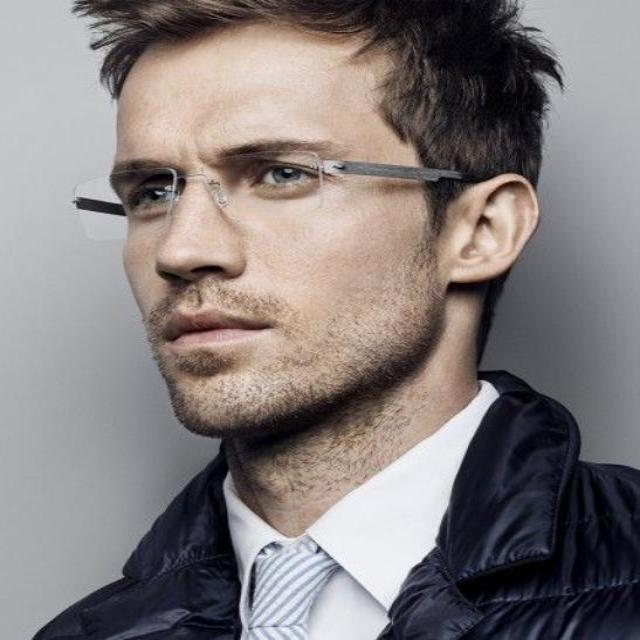glasses: (76, 150, 373, 238)
